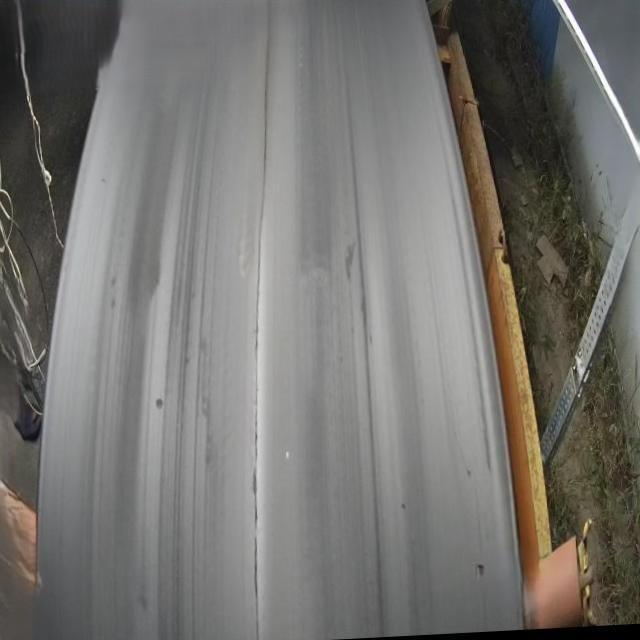Tear: (242, 0, 282, 640)
